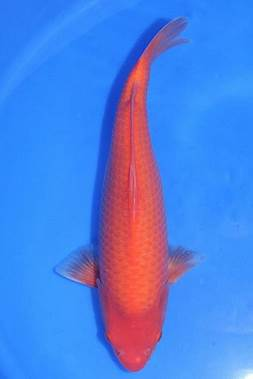red: (54, 16, 201, 372)
